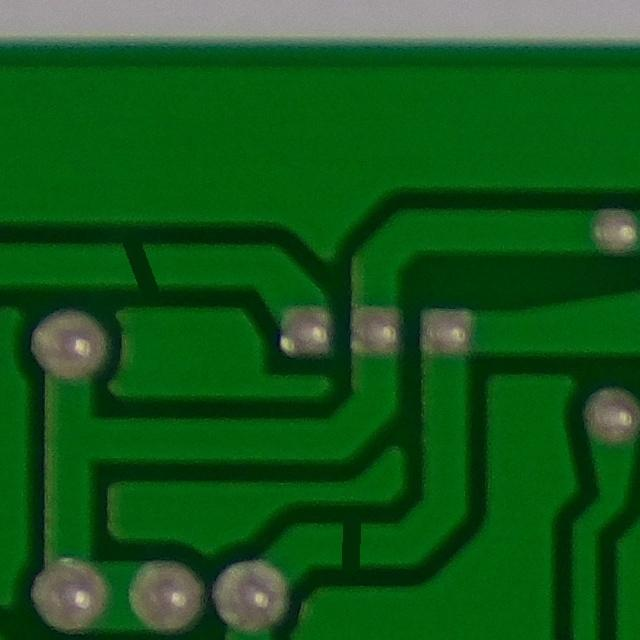open_circuit: (102, 227, 177, 298), (322, 507, 374, 579)
